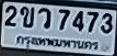letters: (19, 5, 35, 29), (4, 4, 18, 28), (37, 7, 52, 29), (57, 8, 71, 31), (100, 12, 114, 35), (71, 10, 85, 32), (86, 11, 99, 34)
province: (15, 34, 99, 51)
